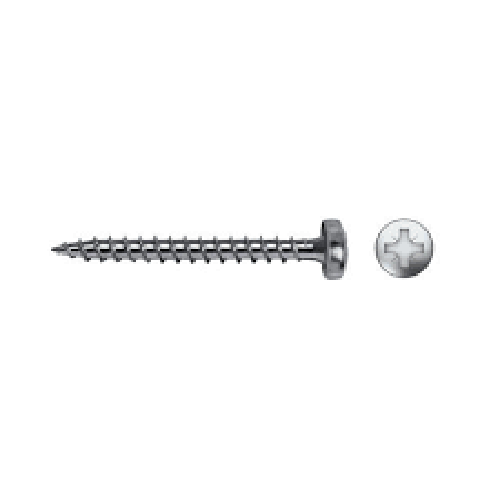Boligrafo: (163, 83, 197, 388), (196, 81, 221, 404), (256, 81, 281, 400), (227, 84, 252, 398)
